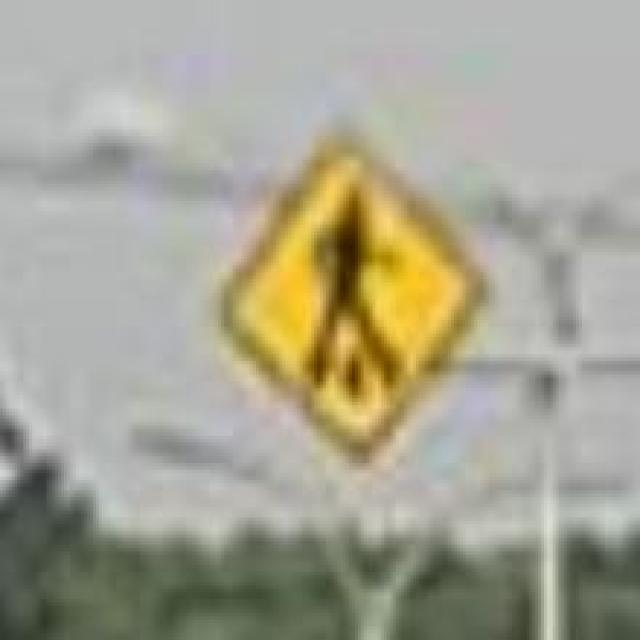traffic sign: (239, 150, 478, 443)
